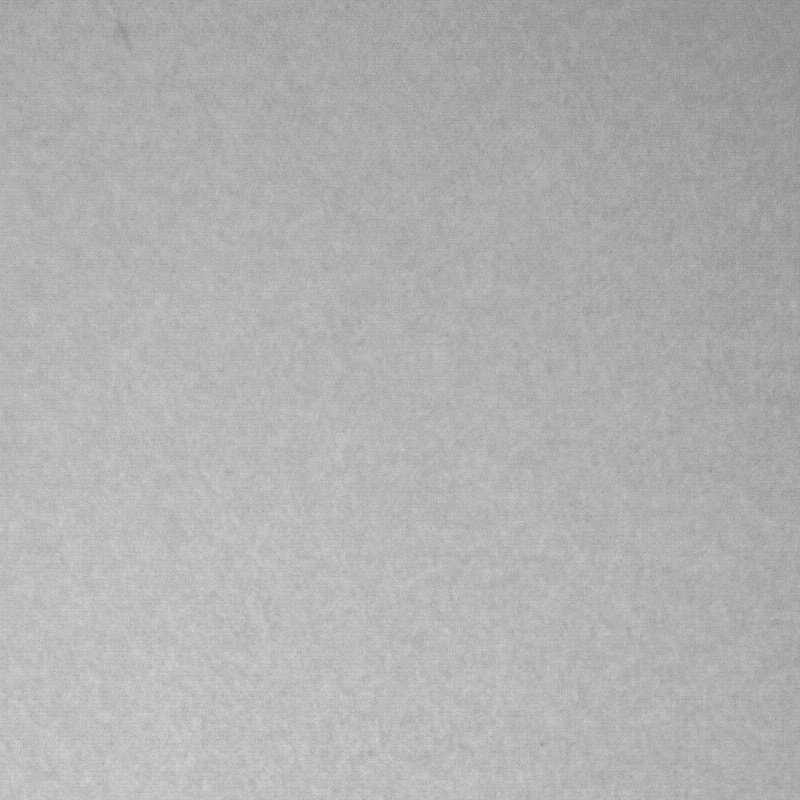defect: (99, 1, 135, 49)
